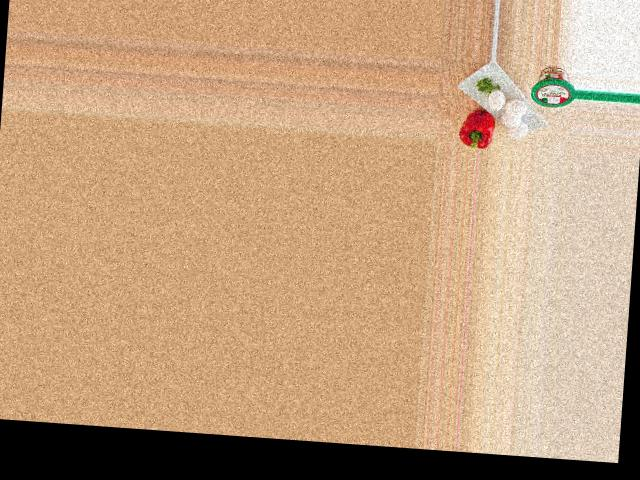bell_pepper: (455, 109, 502, 149)
